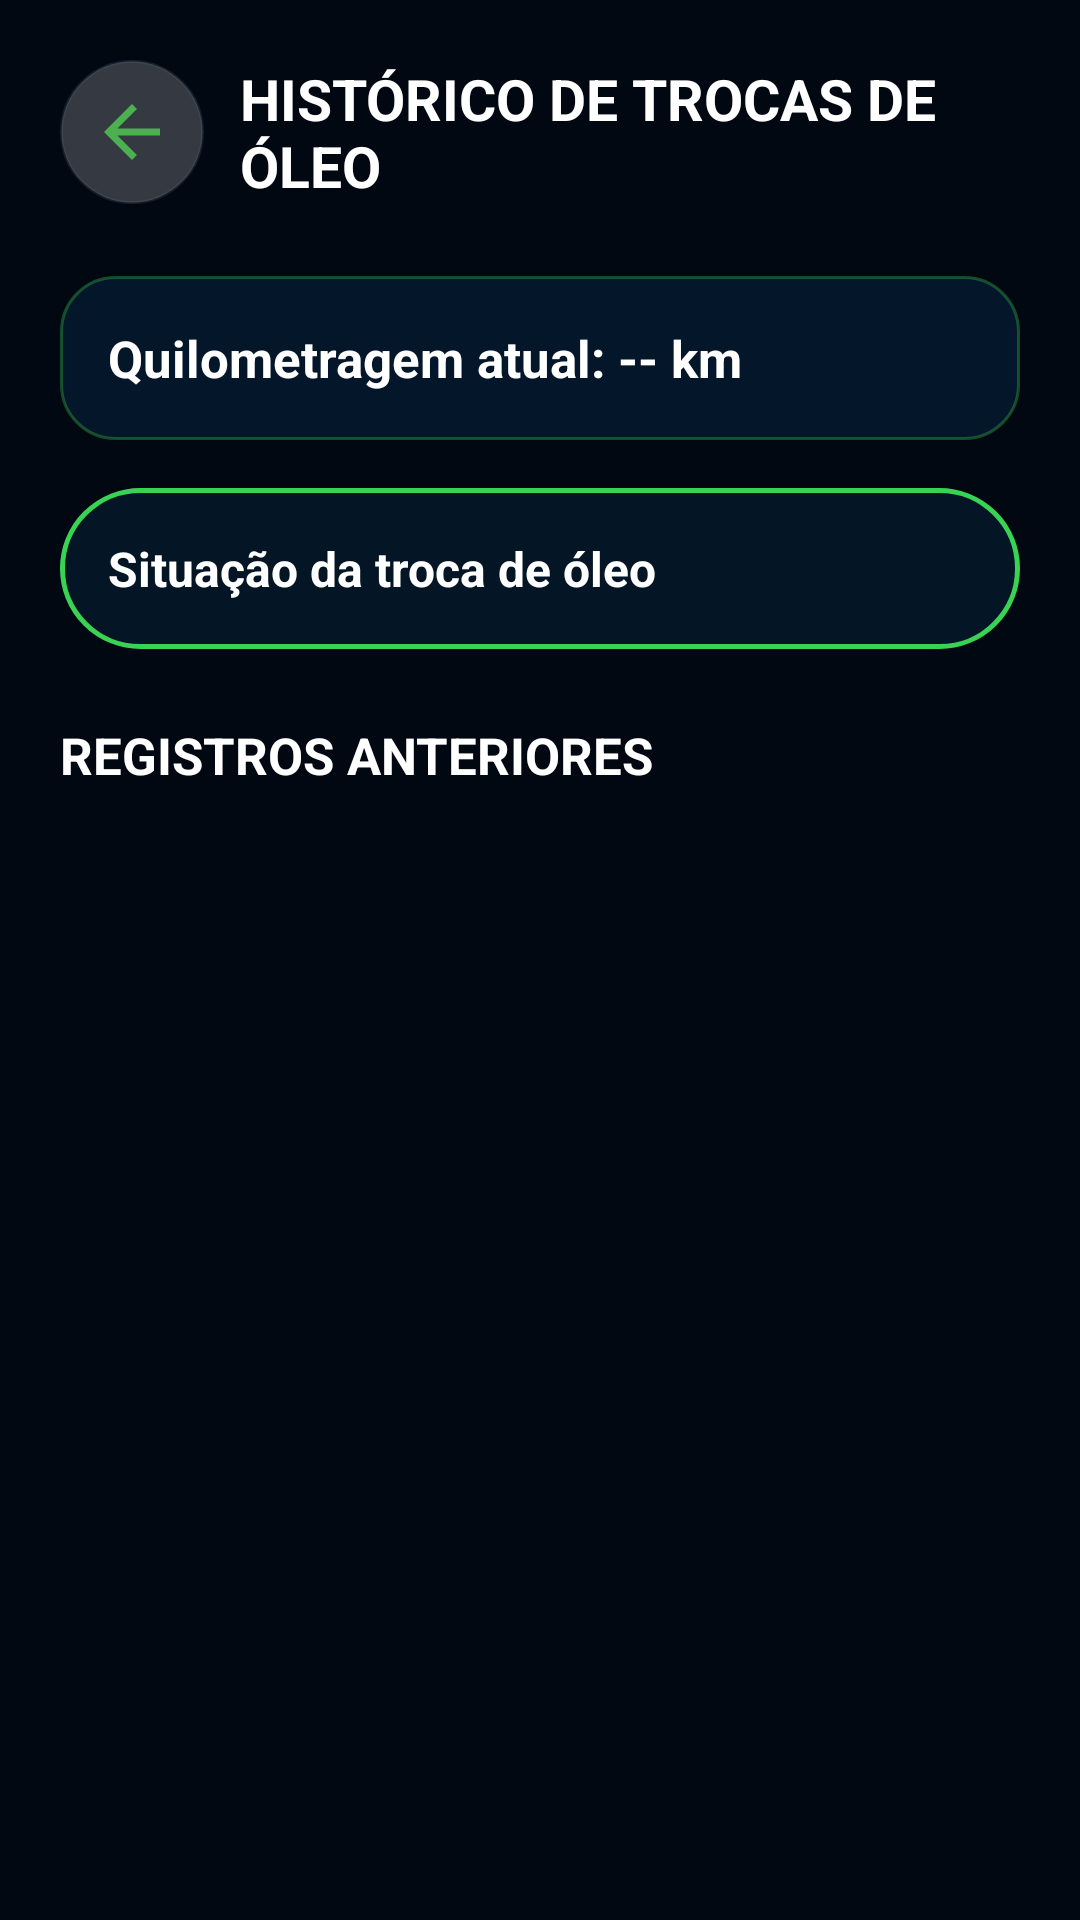

Icon bounding boxes for this 1080 × 1920 phone screenshot, format (x1, y1, x2, y2):
Voltar: (60, 60, 203, 204)
